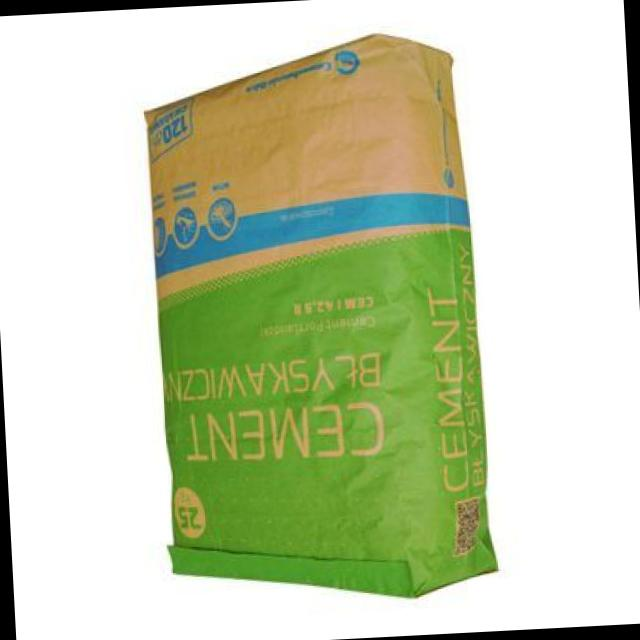KantongSemen: (139, 28, 503, 615)
